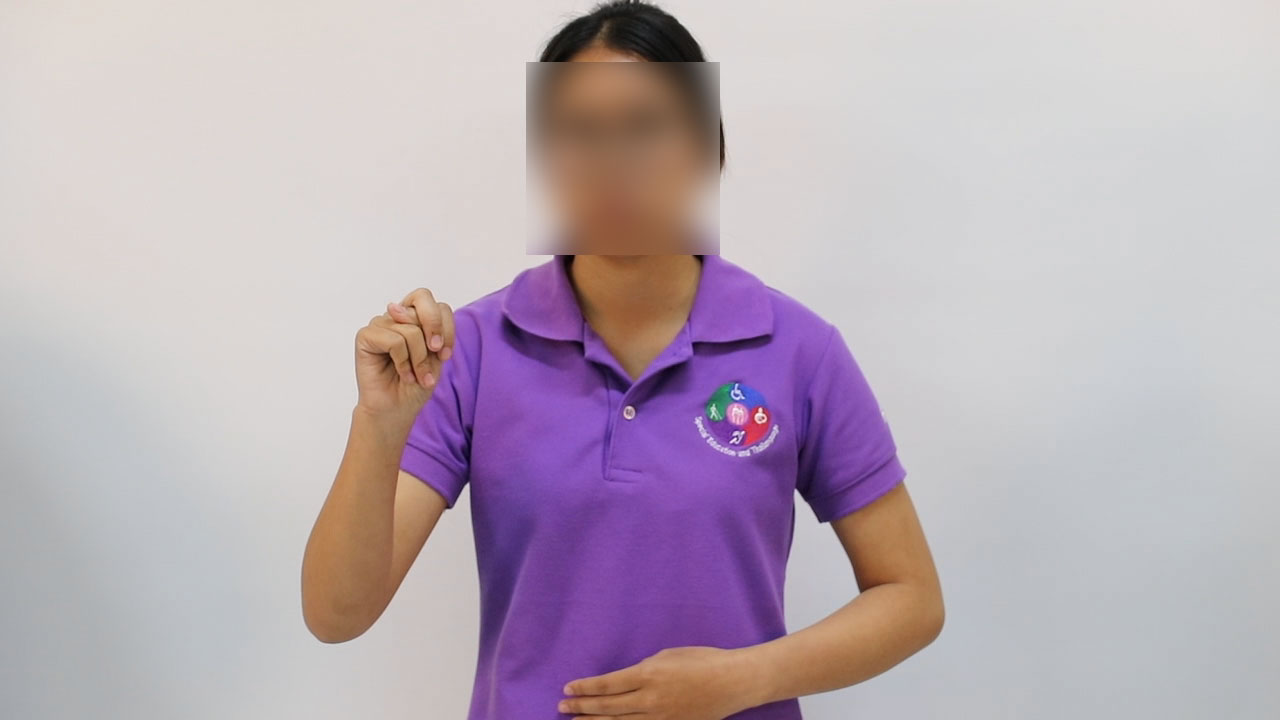nor: (338, 281, 467, 430)
